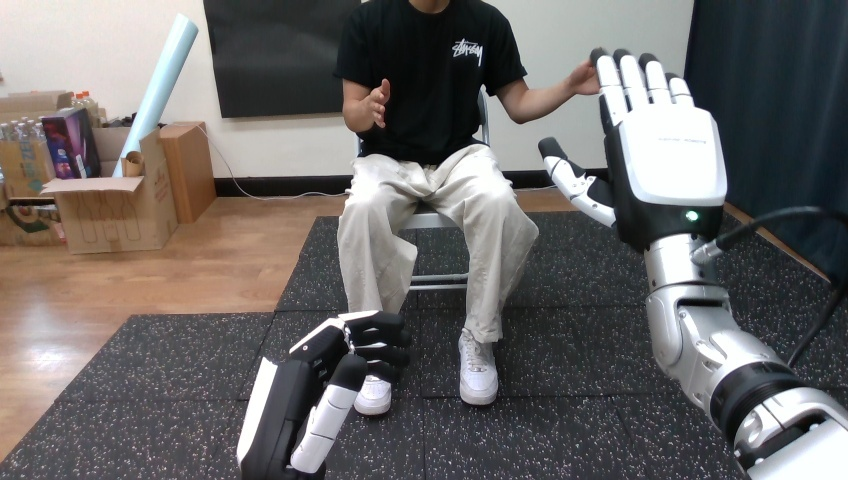left robot hand: (539, 48, 847, 478), (237, 310, 410, 478)
